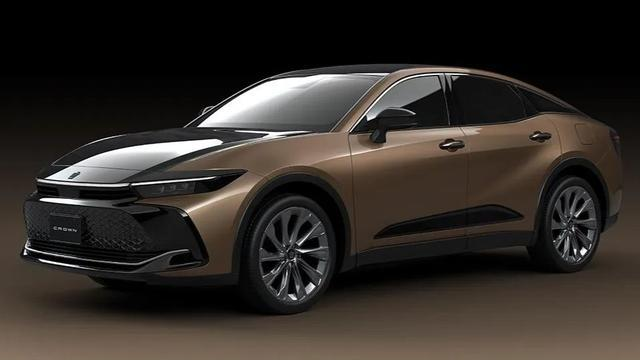汽车: (19, 62, 637, 319)
